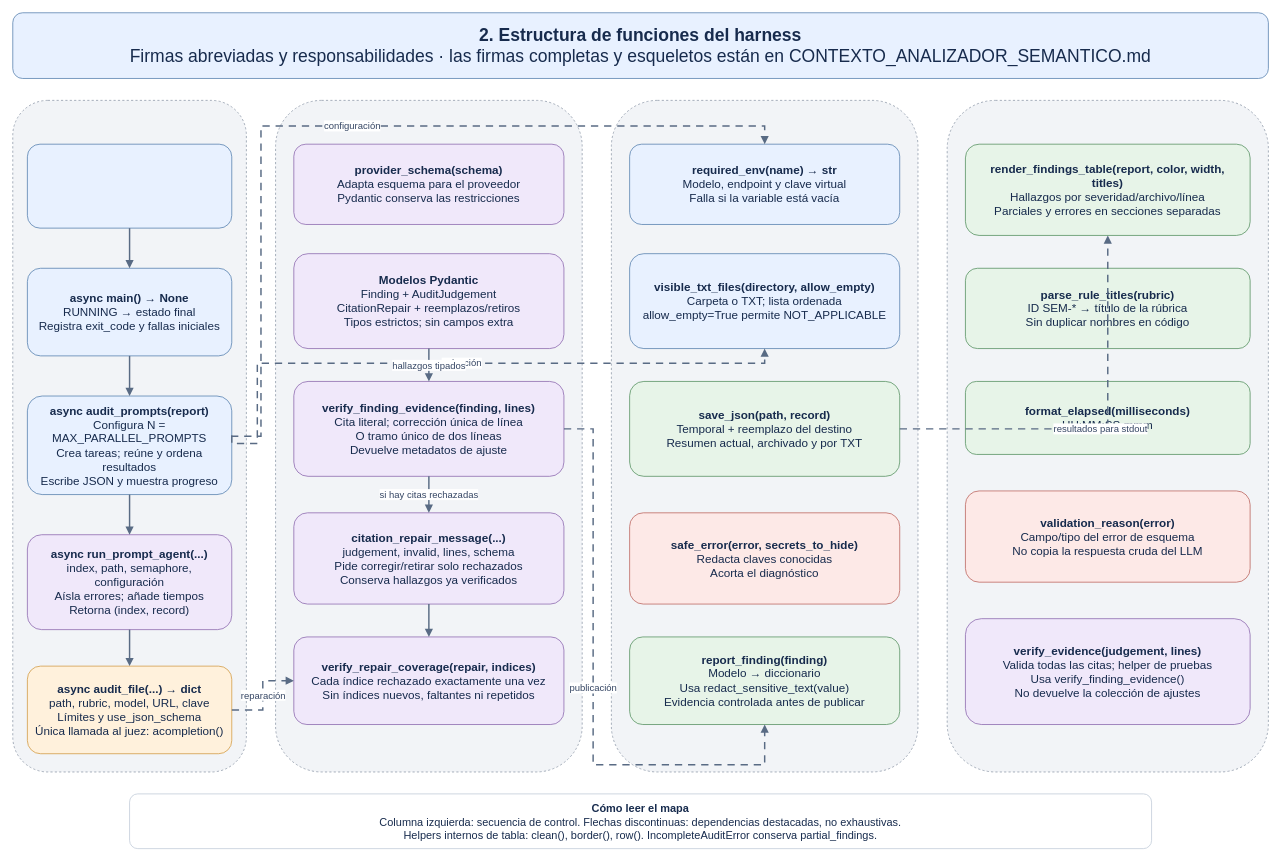
Some shapes in this 1281 by 861 pixel diagram are drawn without their labels. Here are the shapes that lost their labels. From the top down, the box of each, then its label:
(27, 143, 232, 228): cli() → int target; --defer-exit Configura entorno y ejecuta main()
(12, 100, 246, 772): Flujo principal
(275, 100, 582, 772): Esquema y evidencia
(611, 100, 918, 772): Configuración y reportes
(946, 100, 1268, 772): Presentación y helpers
